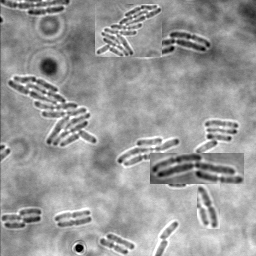Dividing: (197, 184, 220, 229), (99, 238, 128, 255), (54, 209, 90, 222), (56, 217, 92, 228), (27, 7, 64, 17)
Microcolony: (7, 76, 98, 147), (95, 4, 162, 57), (150, 153, 244, 184), (117, 137, 180, 168), (195, 120, 238, 153), (162, 32, 211, 57), (1, 208, 42, 229)
Rod: (106, 233, 135, 251), (157, 222, 178, 240)
